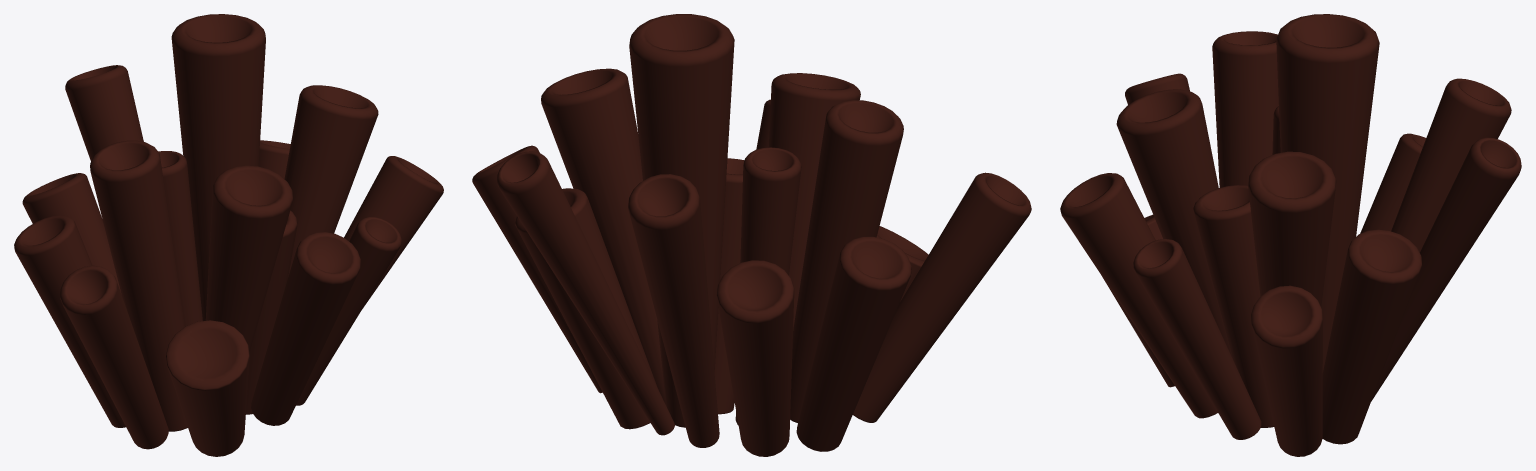
The model's file is coral_6.obj.
3 renders of one model, left to right at view 1: azimuth 30°, elevation 25°; view 2: azimuth 150°, elevation 25°; view 3: azimuth 270°, elevation 25°, orthographic. The views are drawn at different scales.
Visible parts, largest first — view 1: pCylinder35_ParlakVersiyon_0; view 2: pCylinder35_ParlakVersiyon_0; view 3: pCylinder35_ParlakVersiyon_0.
Part boxes in pixels (x1,y1,x2,y2): pCylinder35_ParlakVersiyon_0: [14, 14, 443, 456]; pCylinder35_ParlakVersiyon_0: [472, 14, 1031, 456]; pCylinder35_ParlakVersiyon_0: [1060, 14, 1521, 456].
Size of the model in its own units: 0.8862 by 0.7021 by 0.7502.
